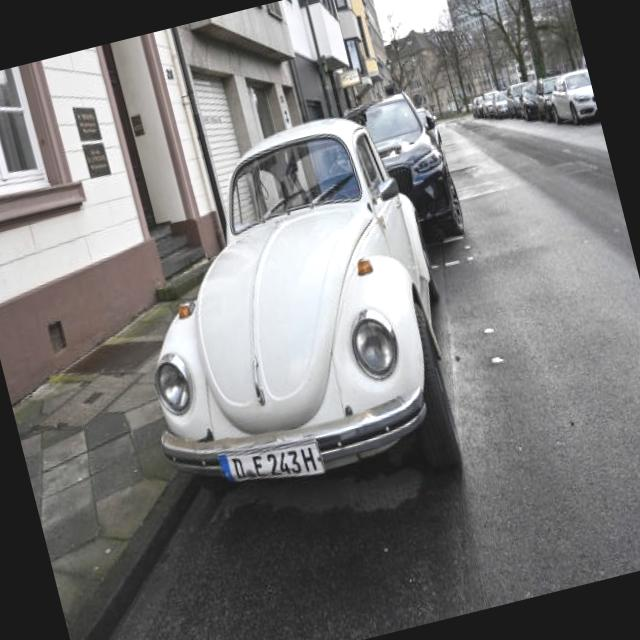car: (98, 102, 470, 520)
